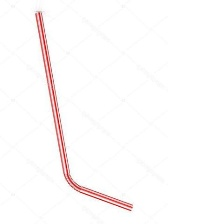drinking_straw: (28, 7, 138, 215)
